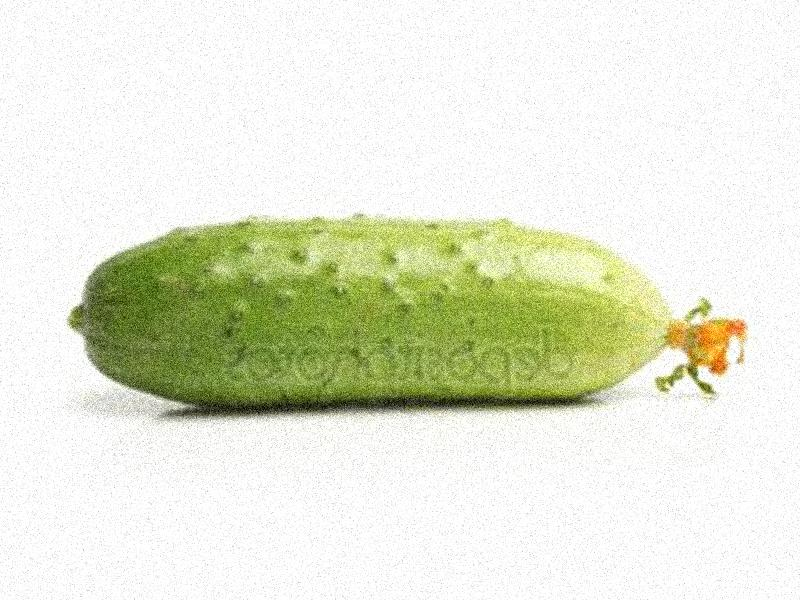Cucumber: (66, 217, 743, 412)
